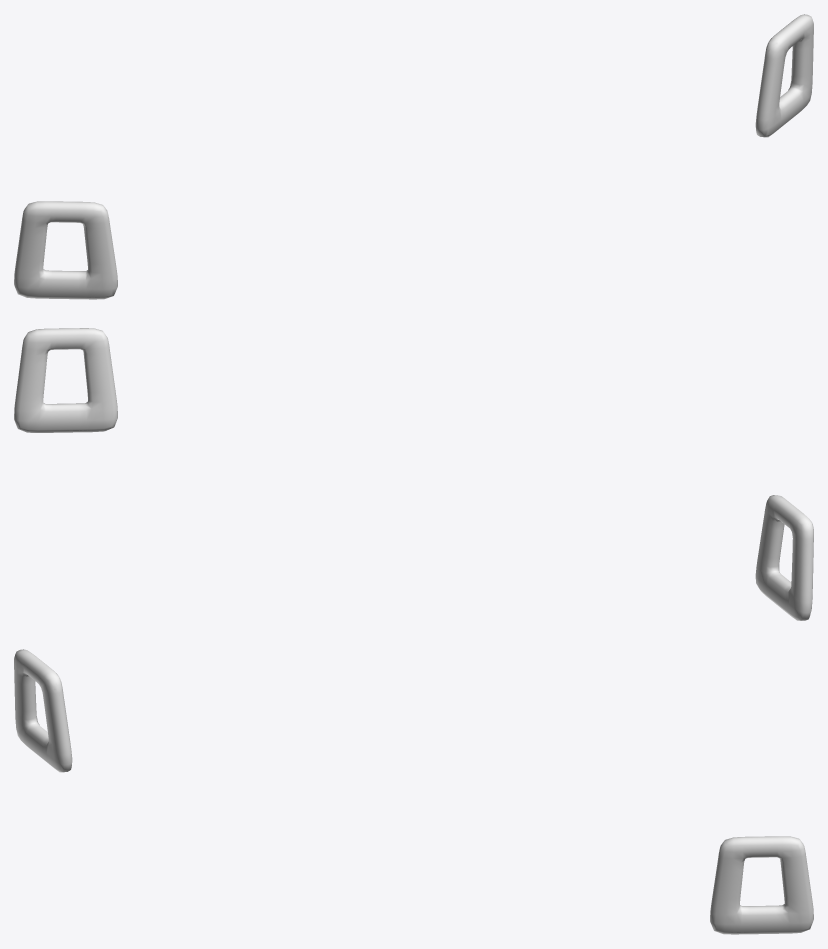
Rendered from earings7.glb.
3 views of the same model, one above another, from view 1: azimuth 30°, elevation 25°; view 2: azimuth 150°, elevation 25°; view 3: azimuth 330°, elevation 25° (orthographic).
Parts seen in each view (by area): view 1: earrings.007; view 2: earrings.007; view 3: earrings.007.
Part boxes in pixels (x1,y1,x2,y2): earrings.007: (14,14,813,299); earrings.007: (14,328,813,620); earrings.007: (14,649,813,934).
Bounding box in the file's own units: 1.47 × 0.1739 × 0.1014.
1 material, 1 textured.
